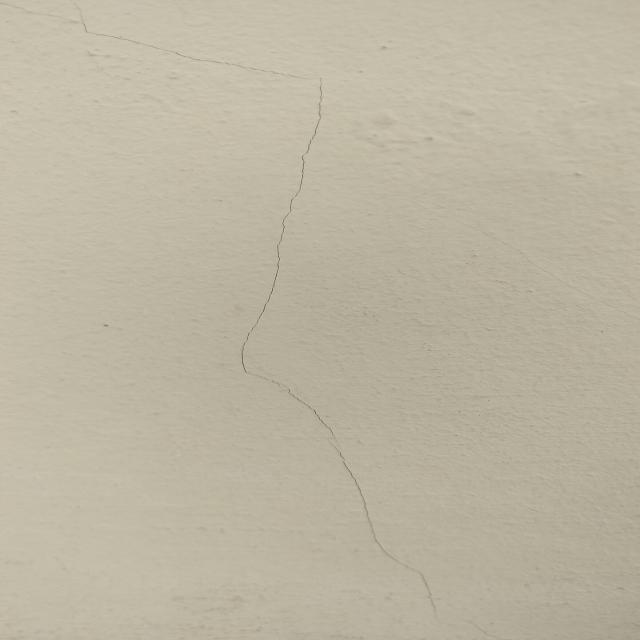Crack: (5, 4, 482, 631)
